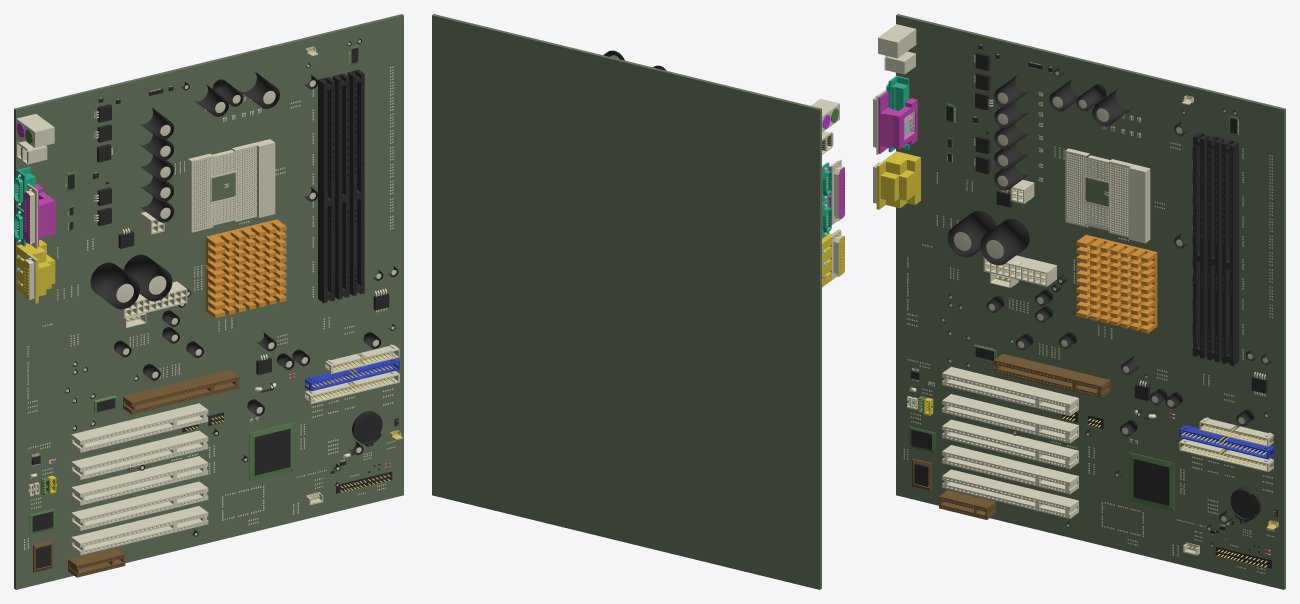
The model's file is motherboard.fbx.
The picture shows the model from 3 angles, left to right: view 1: azimuth 30°, elevation 25°; view 2: azimuth 150°, elevation 25°; view 3: azimuth 330°, elevation 25°; orthographic projection.
Visible parts, largest first — view 1: Cube.004; view 2: Cube.004; view 3: Cube.004.
Part boxes in pixels (box(x1,y1,x2,y2)): Cube.004: box(14, 14, 403, 589); Cube.004: box(432, 14, 844, 589); Cube.004: box(873, 14, 1285, 589).
Bounding box in the file's own units: 1894 × 2211 × 211.
